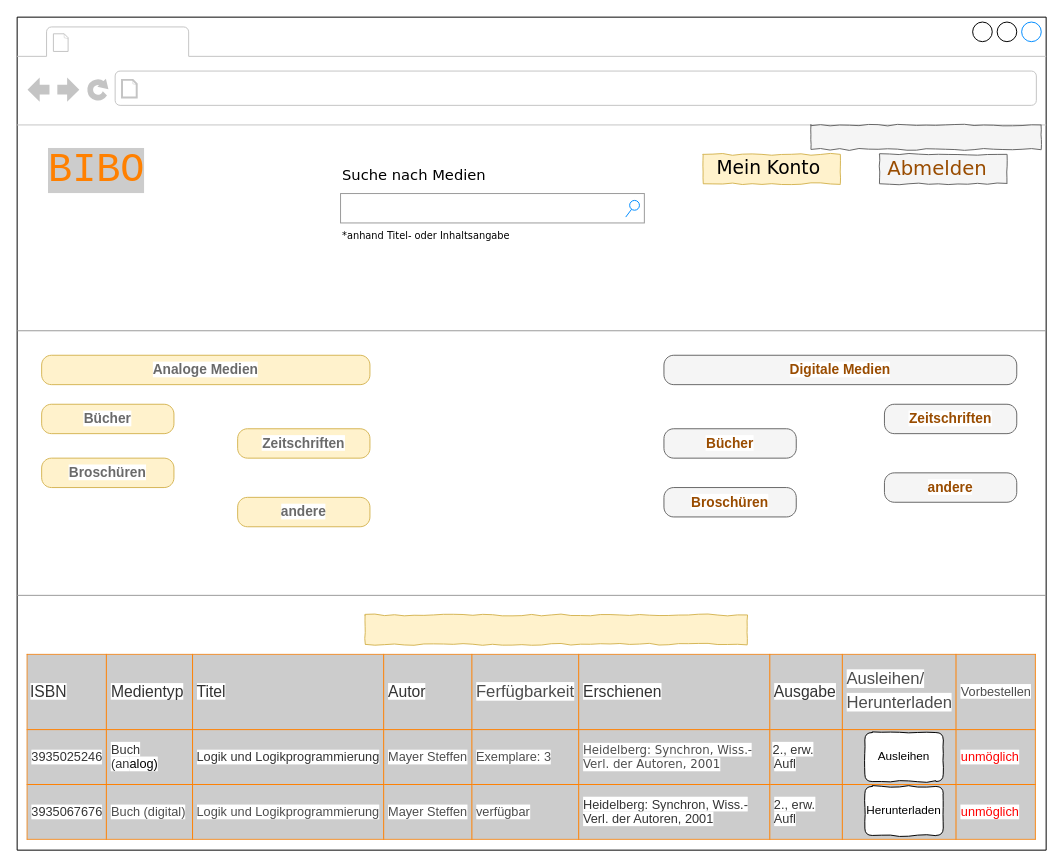
Some shapes in this 1063 by 867 pixel diagram are drawn without their labels. Here are the shapes that lost their labels. From the top down, the centre of each, then its label:
the point at 129,41: Page 1
the point at 267,88: https://www.bibo.de
the point at 925,136: Hаllo, Sаrа :)
the point at 492,208: Logik und Logikprog r аmmierung
the point at 555,629: Suchresultate für Logik und Logikprogrаmmierung
